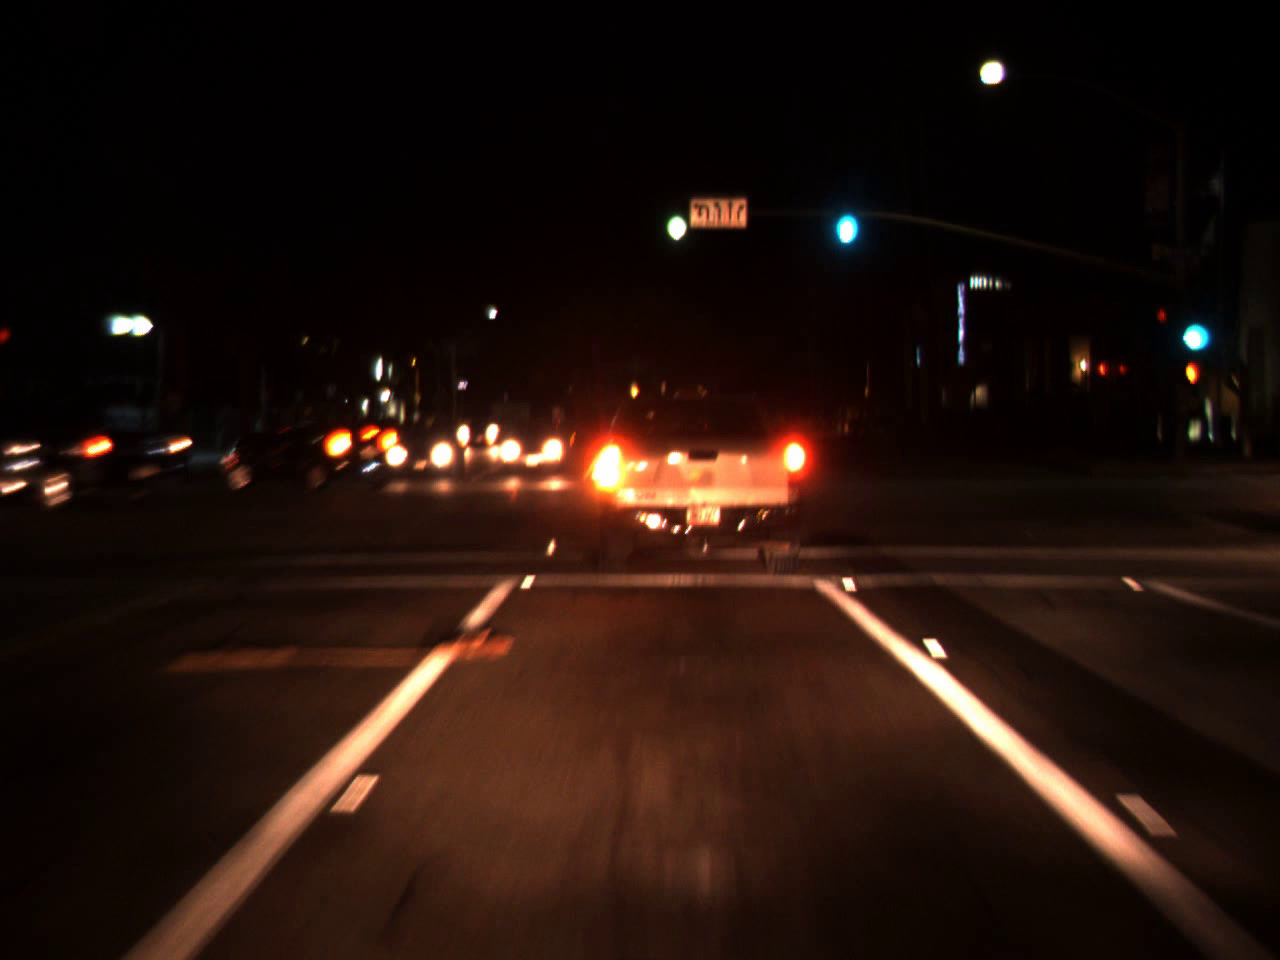go: (1171, 290, 1214, 362), (827, 179, 863, 252), (660, 182, 688, 251)
